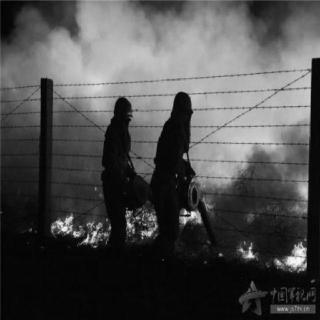Smoke: (7, 21, 310, 183)
